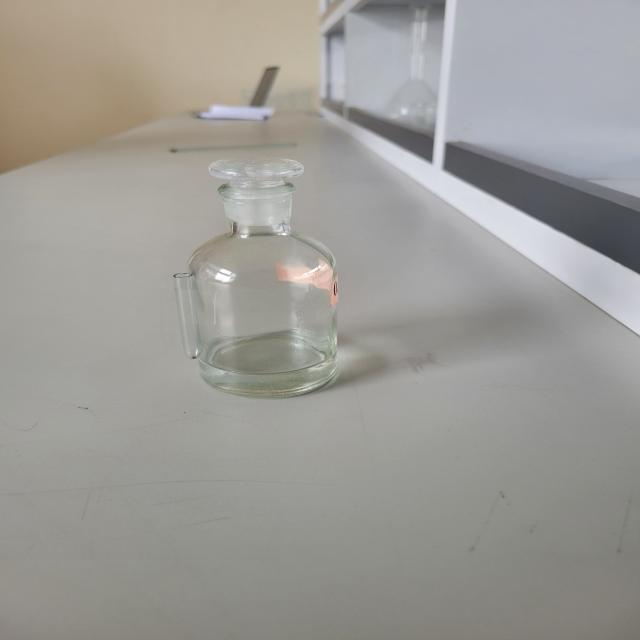Reagent_Bottle: (134, 119, 406, 423)
